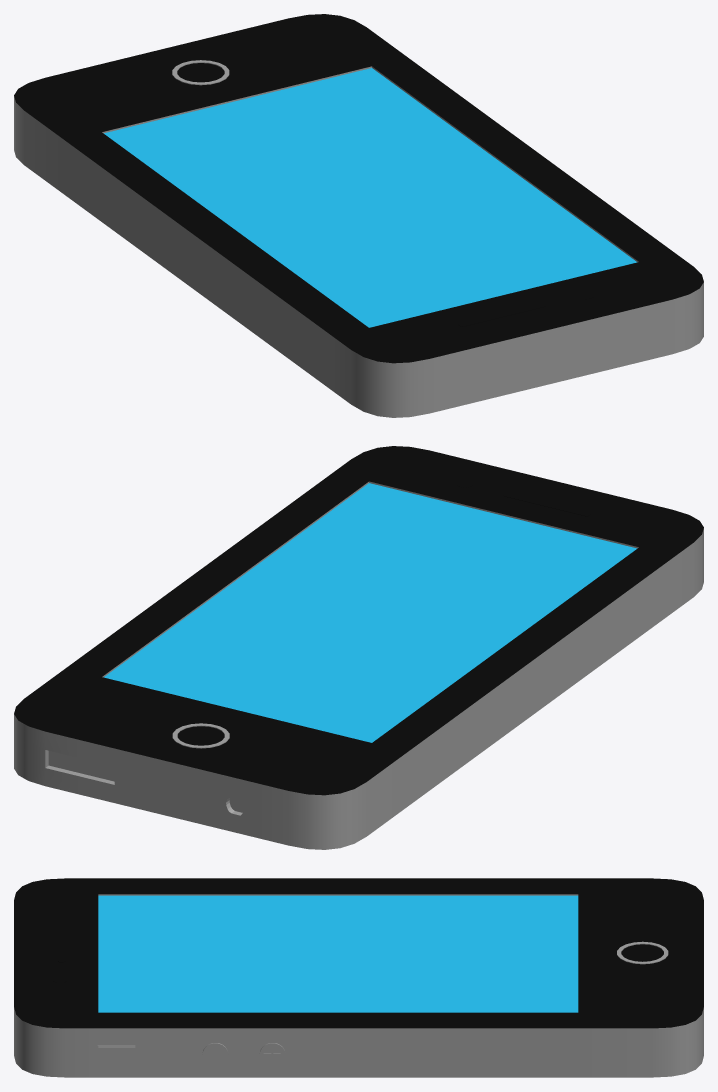
The model's file is Iphone.obj.
3 views of the same model, one above another, from view 1: azimuth 30°, elevation 25°; view 2: azimuth 150°, elevation 25°; view 3: azimuth 270°, elevation 25° (orthographic). The views are drawn at different scales.
Parts seen in each view (by area): view 1: Box20188, Object004; view 2: Box20188, Object004, Object006; view 3: Box20188, Object004, Box20189, Cylinder005, Cylinder006, Cylinder008, Box20187.
Part boxes in pixels (x1,y1,x2,y2): Box20188: [14, 14, 703, 417]; Object004: [104, 68, 637, 327]; Box20188: [14, 446, 703, 849]; Object004: [104, 483, 637, 742]; Object006: [48, 751, 114, 781]; Box20188: [14, 878, 703, 1077]; Object004: [98, 895, 578, 1012]; Box20189: [97, 1045, 135, 1064]; Cylinder005: [202, 1043, 228, 1066]; Cylinder006: [259, 1043, 285, 1066]; Cylinder008: [617, 941, 668, 964]; Box20187: [98, 1046, 135, 1054].
Size of the model in its own units: 29671 by 4556 by 57274.
